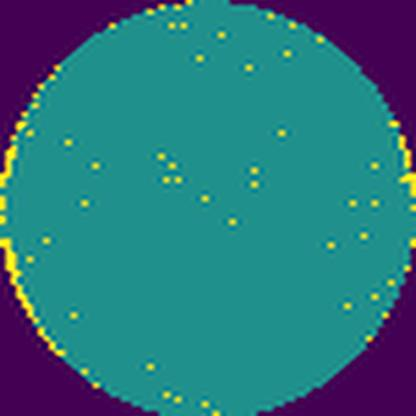Edge-Loc: (0, 58, 68, 367), (378, 116, 416, 198)
